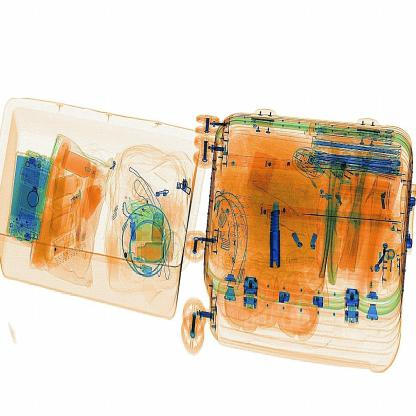pliers: (259, 185, 296, 275)
